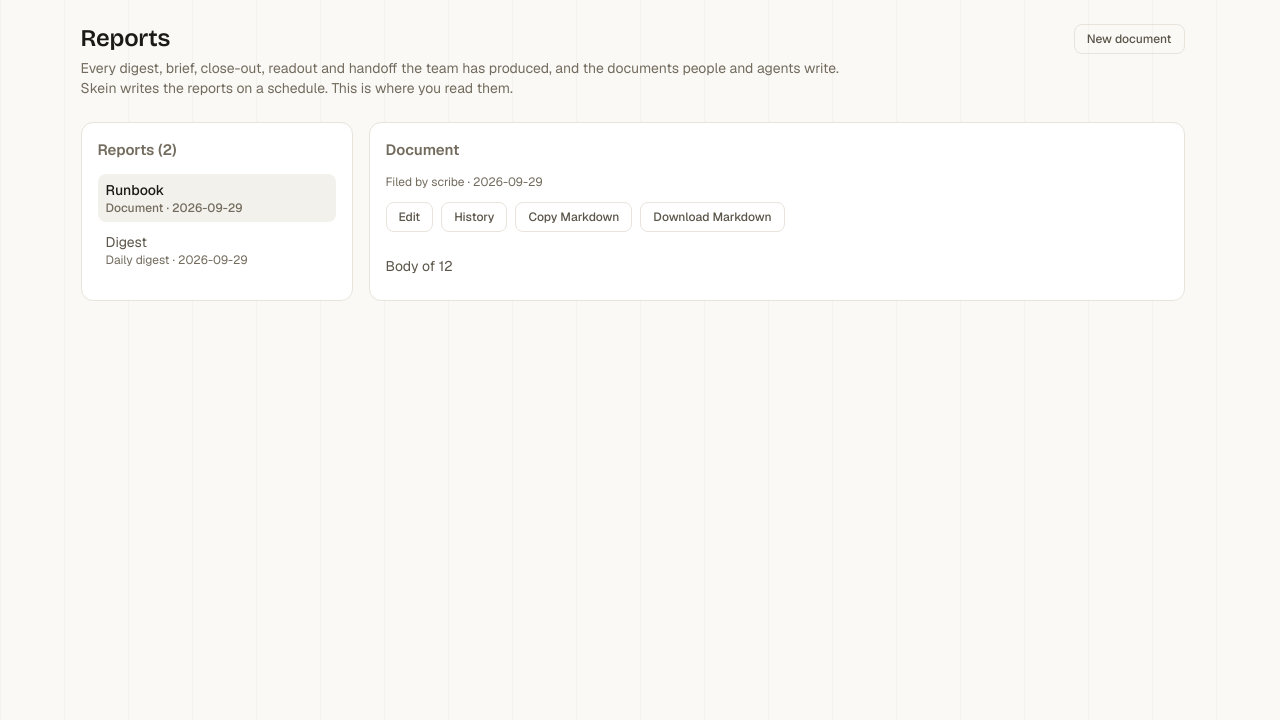
Test: document actions on Reports › keeps unsaved text across History and back
Click the button "Edit": (409, 216) x1=386 y1=202 x2=433 y2=232
(page scrolled)
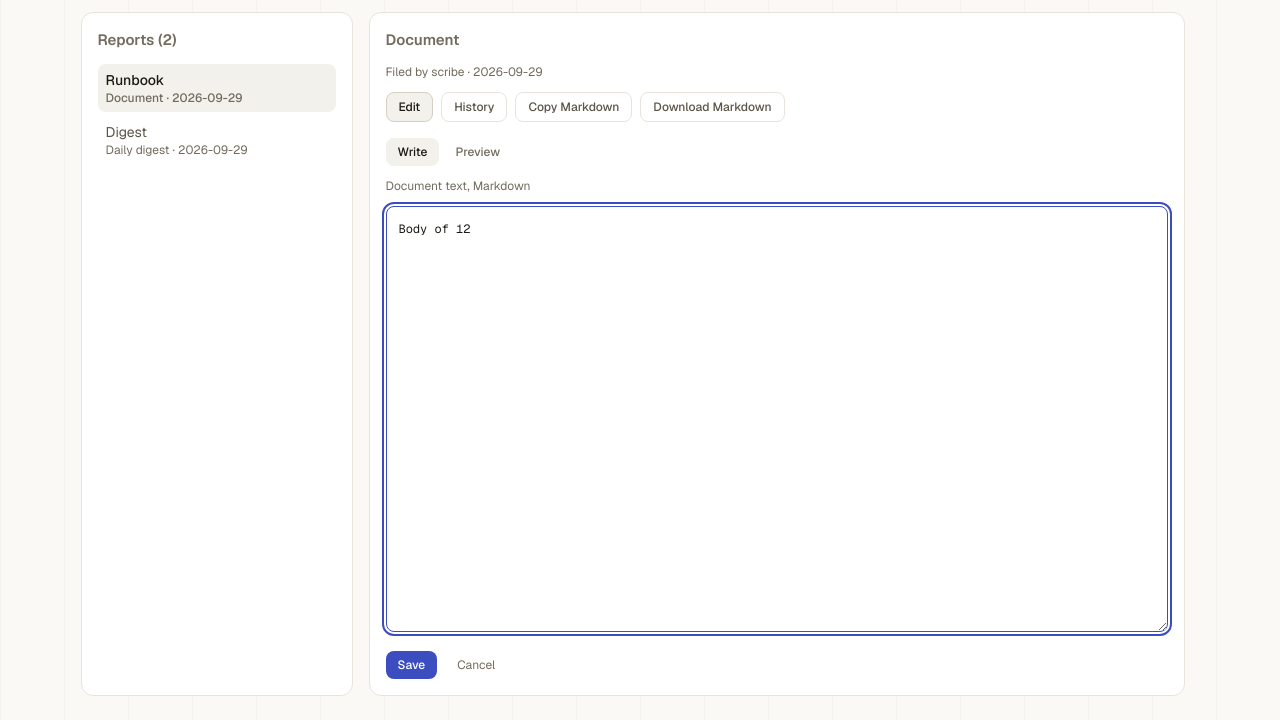
Check: the text box labelled "Document text, Markdown" holds "Body of 12"
Replace the text in the text box labelled "Document text, Markdown" with "Body of 12, edited": (776, 418) x1=386 y1=206 x2=1168 y2=632
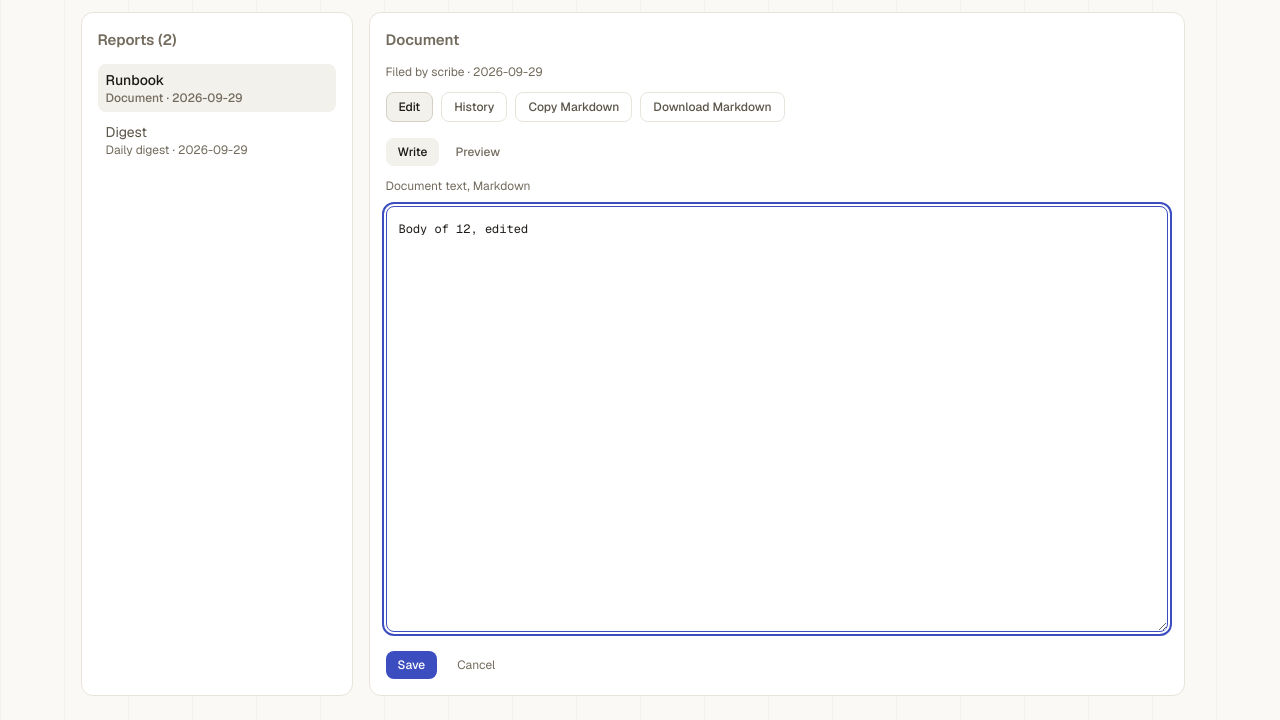
Click the button "History": (474, 106) x1=441 y1=92 x2=507 y2=122
(page scrolled)
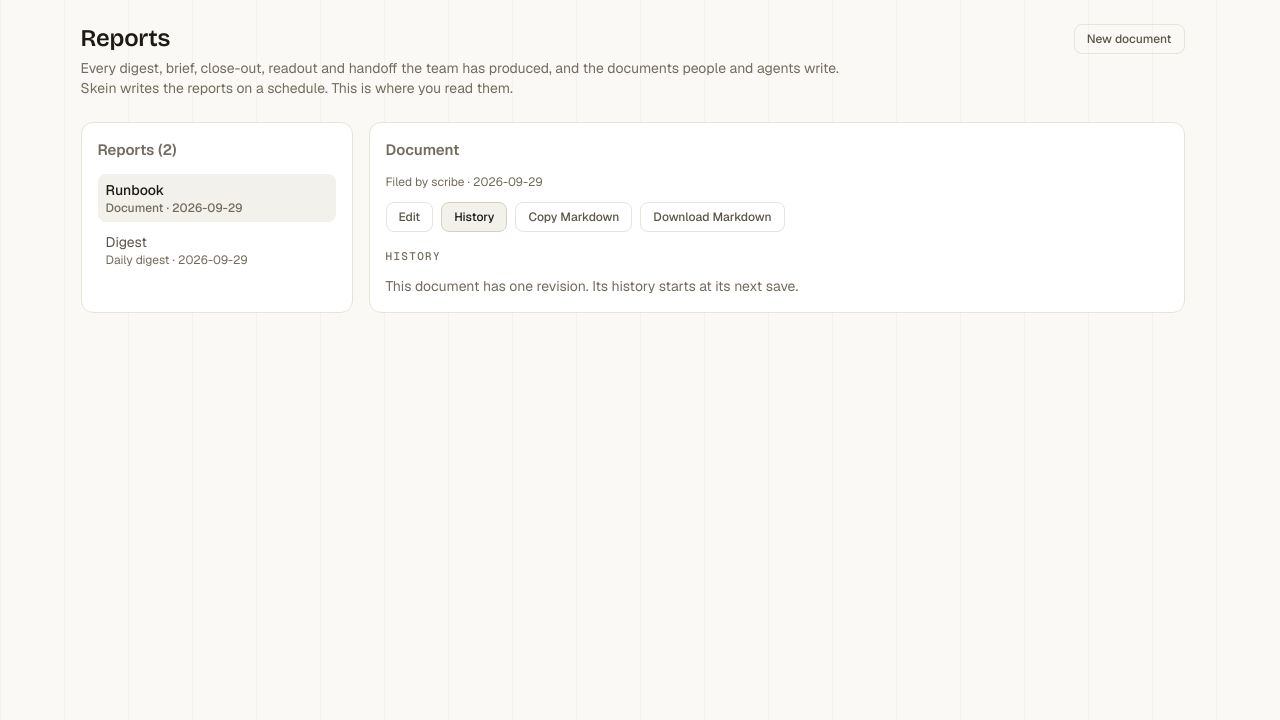
Check: the text "This document has one revision" is shown, box x1=386 y1=277 x2=798 y2=295
Click the button "Edit": (409, 216) x1=386 y1=202 x2=433 y2=232
(page scrolled)
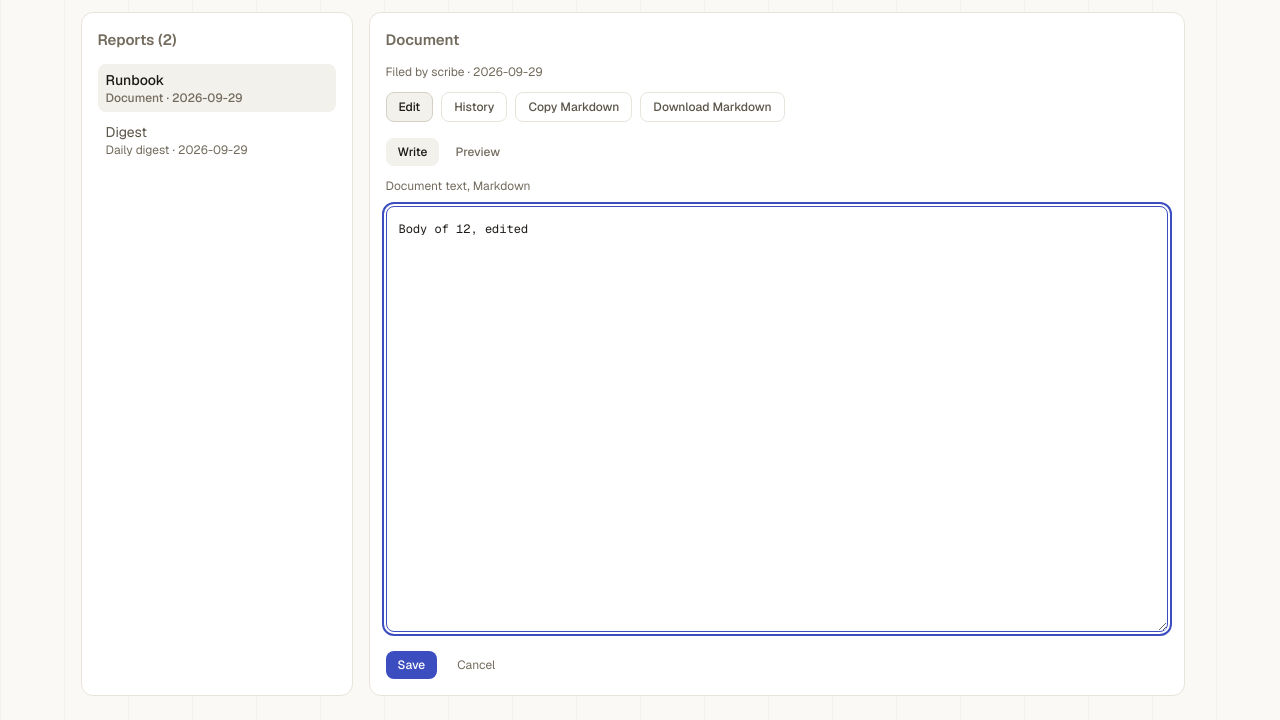
Check: the text box labelled "Document text, Markdown" holds "Body of 12, edited", box x1=386 y1=206 x2=1168 y2=632
